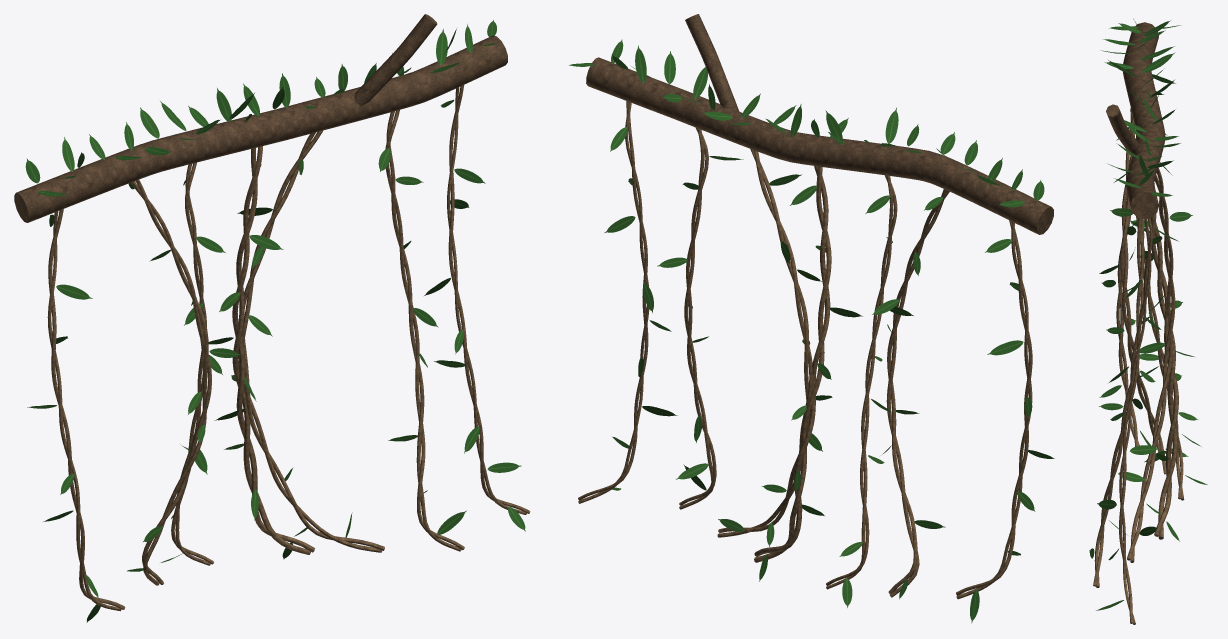
File: hanging-lianas.glb
The picture shows the model from 3 angles, left to right: view 1: azimuth 30°, elevation 25°; view 2: azimuth 150°, elevation 25°; view 3: azimuth 270°, elevation 25°; orthographic projection. The views are drawn at different scales.
Parts seen in each view (by area): view 1: Hanging_Lianas; view 2: Hanging_Lianas; view 3: Hanging_Lianas.
Part boxes in pixels (x1,y1,x2,y2): Hanging_Lianas: [14, 14, 530, 622]; Hanging_Lianas: [569, 14, 1054, 623]; Hanging_Lianas: [1089, 18, 1207, 624].
Size of the model in its own units: 3.21 by 3.36 by 0.7935.
3 materials, 3 textured.
